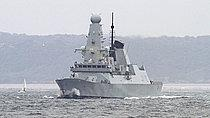MIL_Ship: (53, 11, 166, 99)
